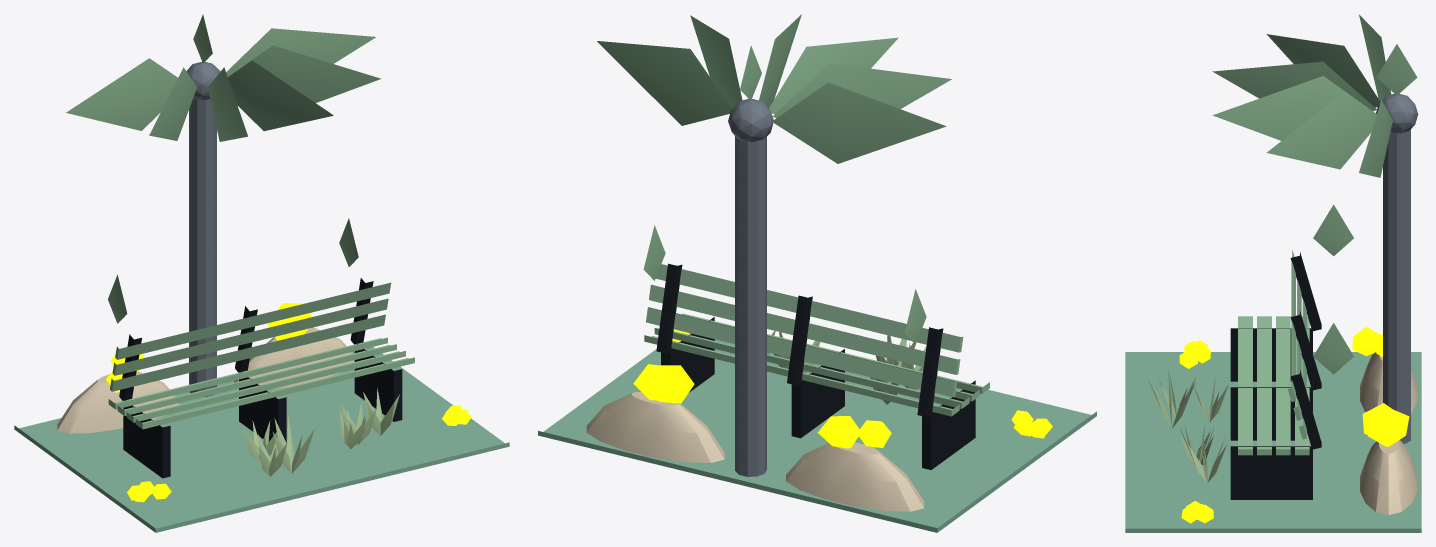
3 views of the same model, side by side, from view 1: azimuth 30°, elevation 25°; view 2: azimuth 150°, elevation 25°; view 3: azimuth 270°, elevation 25° (orthographic). The views are drawn at different scales.
Visible parts, largest first — view 1: Safety_Pad, Tree_Canopy, Bench_Back, Bench_Seat, Tree_Trunk, Bench_Frame, Terrain, Grass_Tufts, Foliage, Leaf_Crests; view 2: Safety_Pad, Tree_Canopy, Terrain, Tree_Trunk, Bench_Back, Bench_Frame, Bench_Seat, Foliage, Leaf_Crests, Grass_Tufts; view 3: Safety_Pad, Tree_Canopy, Bench_Frame, Tree_Trunk, Bench_Seat, Terrain, Foliage, Leaf_Crests, Grass_Tufts, Bench_Back.
Part boxes in pixels (x1,y1,x2,y2): Safety_Pad: [14, 347, 509, 532]; Tree_Canopy: [66, 14, 381, 141]; Bench_Back: [110, 282, 391, 391]; Bench_Seat: [108, 337, 414, 429]; Tree_Trunk: [186, 62, 220, 396]; Bench_Frame: [119, 278, 402, 478]; Terrain: [57, 327, 354, 433]; Grass_Tufts: [243, 388, 399, 476]; Foliage: [106, 303, 471, 502]; Leaf_Crests: [108, 218, 358, 323]; Safety_Pad: [538, 333, 1096, 532]; Tree_Canopy: [597, 14, 951, 163]; Terrain: [586, 392, 924, 511]; Tree_Trunk: [728, 99, 773, 476]; Bench_Back: [646, 264, 963, 397]; Bench_Frame: [656, 263, 975, 469]; Bench_Seat: [644, 313, 989, 416]; Foliage: [633, 329, 1052, 448]; Leaf_Crests: [643, 225, 926, 344]; Grass_Tufts: [767, 331, 926, 404]; Safety_Pad: [1125, 352, 1421, 532]; Tree_Canopy: [1212, 14, 1417, 177]; Bench_Frame: [1230, 252, 1321, 499]; Tree_Trunk: [1376, 93, 1418, 443]; Bench_Seat: [1238, 316, 1309, 455]; Terrain: [1360, 352, 1417, 514]; Foliage: [1179, 327, 1409, 523]; Leaf_Crests: [1313, 204, 1353, 374]; Grass_Tufts: [1147, 370, 1228, 482]; Bench_Back: [1287, 250, 1306, 439].
Size of what is drawn, in the model's own units: 2.6 by 2.67 by 1.8.
8 materials, 2 textured.
